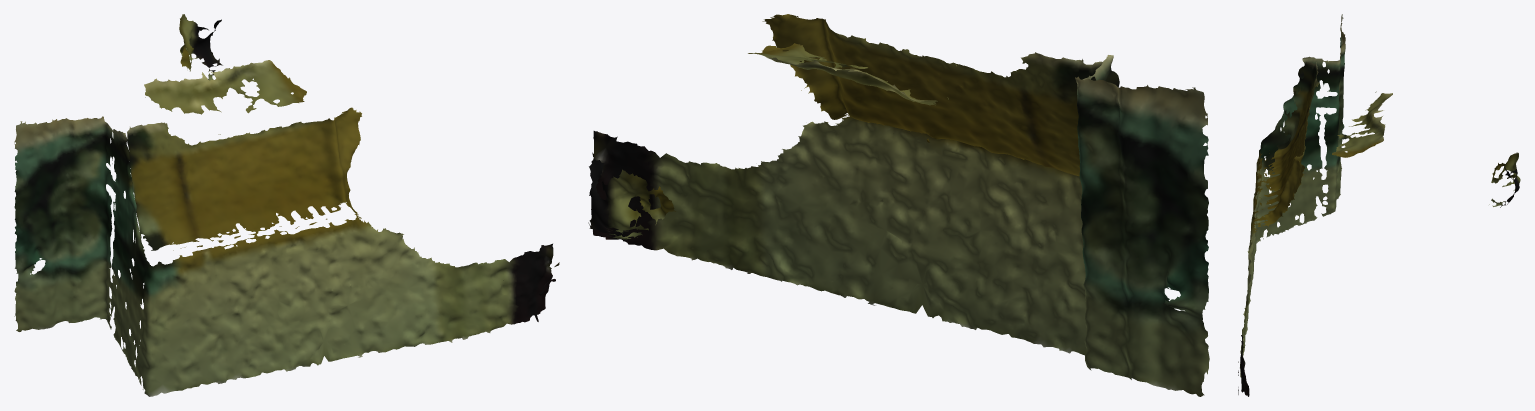
The model's file is color_model_f007_20260211_234501.obj.
3 views of the same model, side by side, from view 1: azimuth 30°, elevation 25°; view 2: azimuth 150°, elevation 25°; view 3: azimuth 270°, elevation 25° (orthographic). The views are drawn at different scales.
Bounding box in the file's own units: 2.16 × 1.13 × 1.39.
